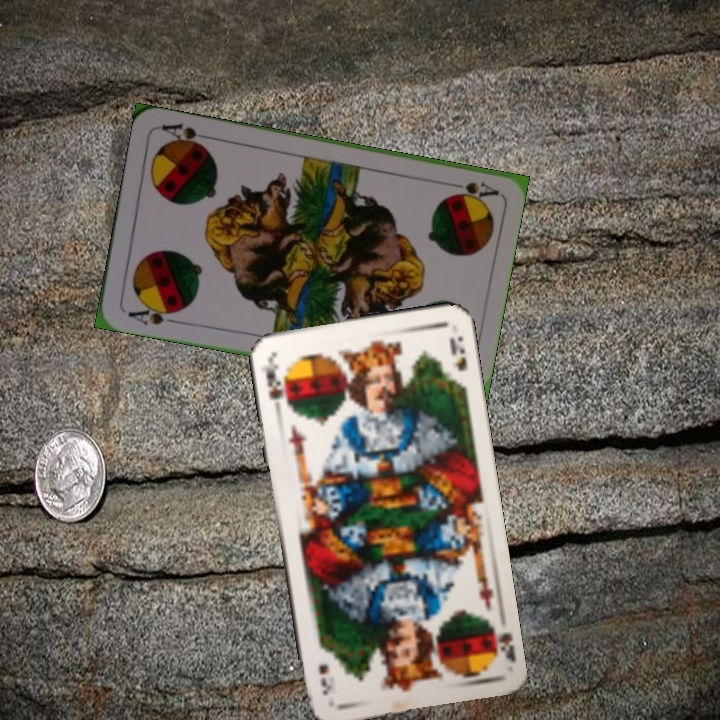SA: (123, 300, 182, 328), (441, 178, 500, 202)
SK: (257, 353, 291, 413), (483, 615, 517, 665)
